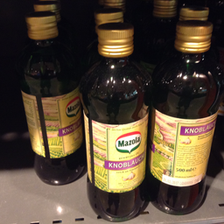oil: (79, 21, 153, 222), (150, 19, 219, 215), (17, 12, 85, 187)
